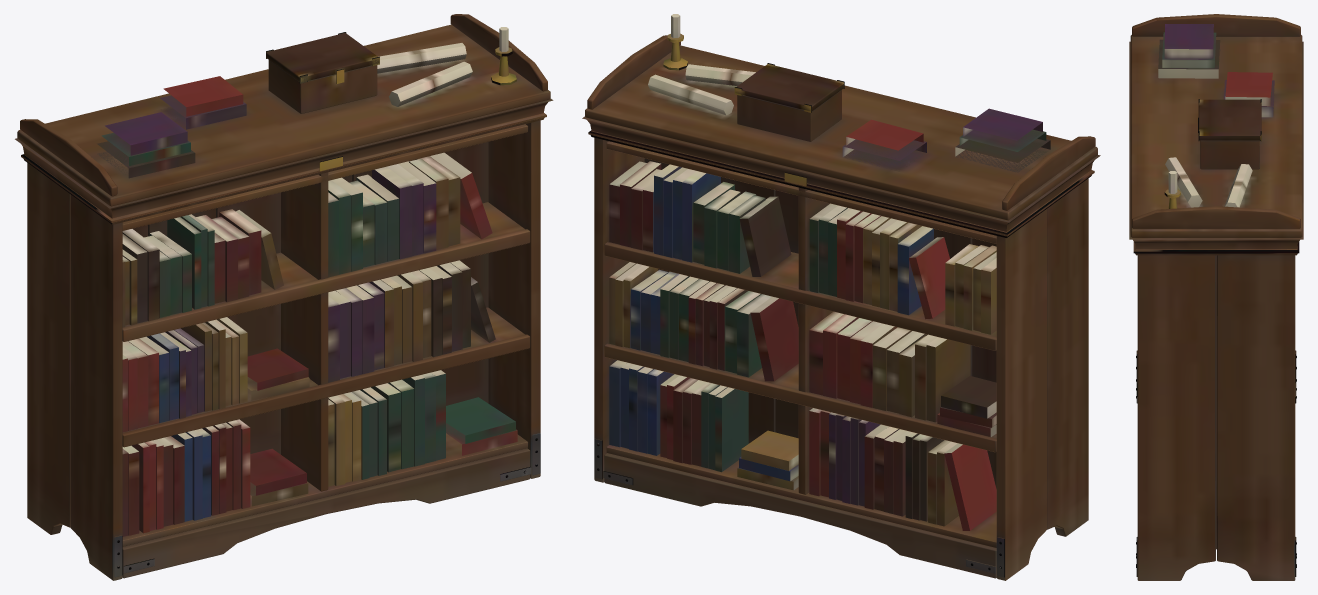
Rendered from bookcase-long.glb.
The picture shows the model from 3 angles, left to right: view 1: azimuth 30°, elevation 25°; view 2: azimuth 150°, elevation 25°; view 3: azimuth 270°, elevation 25°; orthographic projection. The views are drawn at different scales.
Parts seen in each view (by area): view 1: bookcase-long; view 2: bookcase-long; view 3: bookcase-long.
Boxes of the visible parts, x1=… form: bookcase-long: x1=15, y1=14, x2=553, y2=580; bookcase-long: x1=582, y1=14, x2=1100, y2=580; bookcase-long: x1=1129, y1=14, x2=1303, y2=580.
Size of the model in its own units: 1.72 by 1.63 by 0.64.
1 material, 1 textured.
